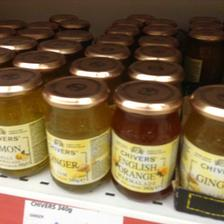Marmelade: (111, 78, 181, 198), (42, 74, 110, 192), (0, 66, 44, 176), (181, 83, 223, 193), (184, 28, 224, 84)
